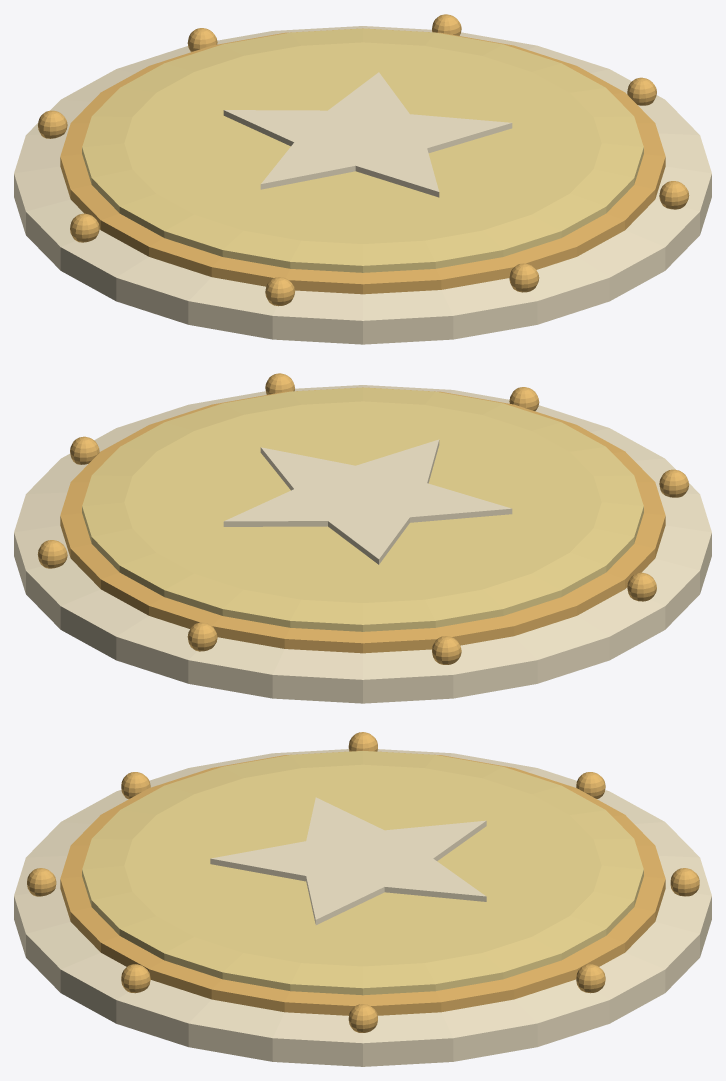
The model's file is Star_cooperation_pedestal.obj.
The picture shows the model from 3 angles, top to bottom: view 1: azimuth 30°, elevation 25°; view 2: azimuth 150°, elevation 25°; view 3: azimuth 270°, elevation 25°; orthographic projection.
Visible parts, largest first — view 1: Colored_ceramic, Carved_base, Inset_brass, Raised_Star, Brass_rivet; view 2: Colored_ceramic, Carved_base, Inset_brass, Raised_Star, Brass_rivet; view 3: Colored_ceramic, Carved_base, Inset_brass, Raised_Star, Brass_rivet.
Part boxes in pixels (x1,y1,x2,y2): Colored_ceramic: [82, 28, 643, 272]; Carved_base: [14, 26, 711, 344]; Inset_brass: [60, 28, 665, 294]; Raised_Star: [223, 72, 512, 197]; Brass_rivet: [38, 14, 689, 306]; Colored_ceramic: [82, 387, 643, 631]; Carved_base: [14, 385, 711, 703]; Inset_brass: [60, 387, 665, 653]; Raised_Star: [223, 439, 512, 564]; Brass_rivet: [37, 373, 689, 664]; Colored_ceramic: [82, 751, 643, 995]; Carved_base: [14, 749, 711, 1066]; Inset_brass: [60, 750, 665, 1015]; Raised_Star: [210, 797, 486, 924]; Brass_rivet: [27, 732, 699, 1032].
Size of the model in its own units: 2.56 by 0.2784 by 2.56.
